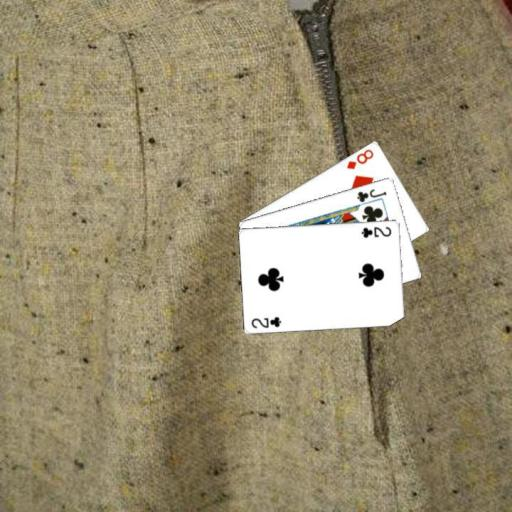2C: (359, 223, 394, 239), (248, 313, 283, 329)
8D: (343, 146, 375, 171)
JC: (354, 186, 388, 204)
